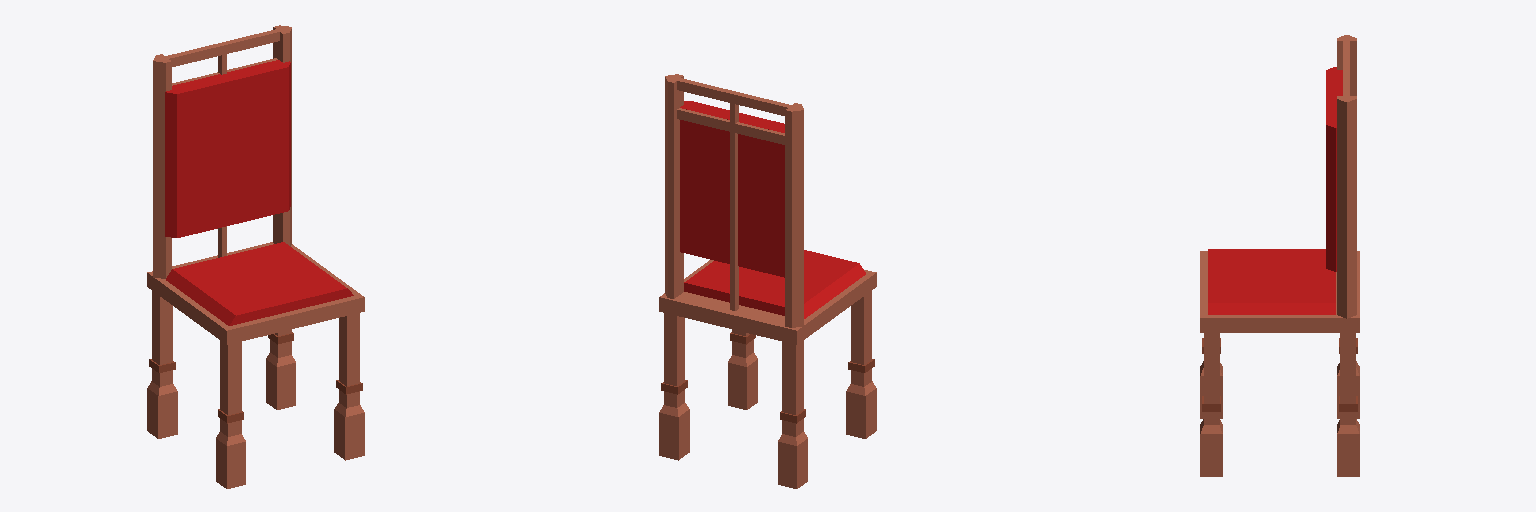
Rendered from Chair.obj.
The picture shows the model from 3 angles: view 1: azimuth 30°, elevation 25°; view 2: azimuth 150°, elevation 25°; view 3: azimuth 270°, elevation 25°; orthographic projection.
Parts seen in each view (by area): view 1: mergedBlocks; view 2: mergedBlocks; view 3: mergedBlocks.
Part boxes in pixels (x1,y1,x2,y2): mergedBlocks: (147,25,364,488); mergedBlocks: (659,74,876,488); mergedBlocks: (1200,35,1359,476).
Bounding box in the file's own units: 1.01 × 2.6 × 1.